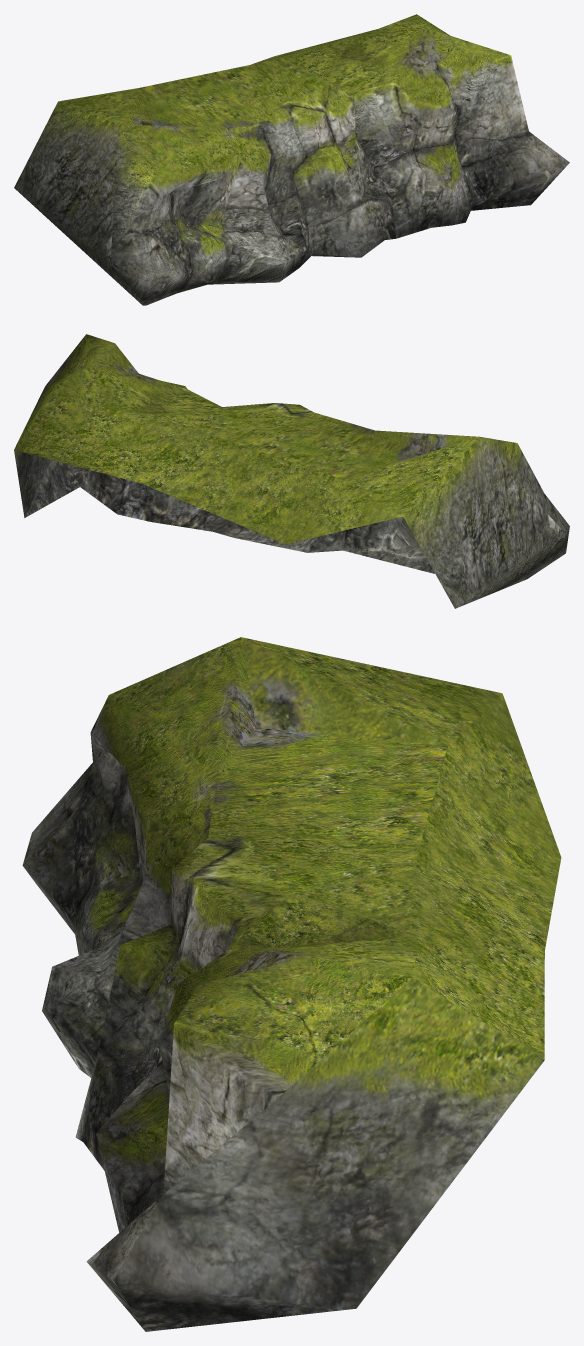
File: green cliff.fbx
The picture shows the model from 3 angles, top to bottom: view 1: azimuth 30°, elevation 25°; view 2: azimuth 150°, elevation 25°; view 3: azimuth 270°, elevation 25°; orthographic projection. The views are drawn at different scales.
Visible parts, largest first — view 1: Object_2; view 2: Object_2; view 3: Object_2.
Boxes of the visible parts, x1,y1,x2,y2 form: Object_2: (14, 14, 569, 305); Object_2: (14, 334, 569, 608); Object_2: (22, 637, 561, 1331).
Bounding box in the file's own units: 3185 × 1107 × 1609.
